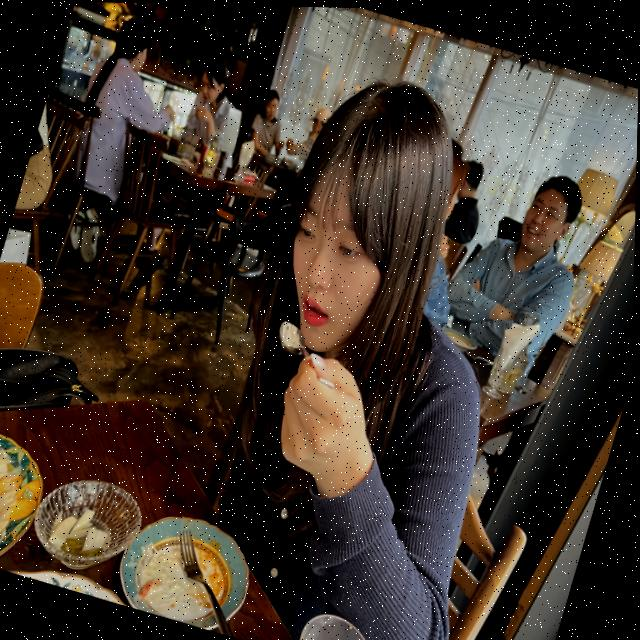eating-person: (159, 44, 591, 640)
